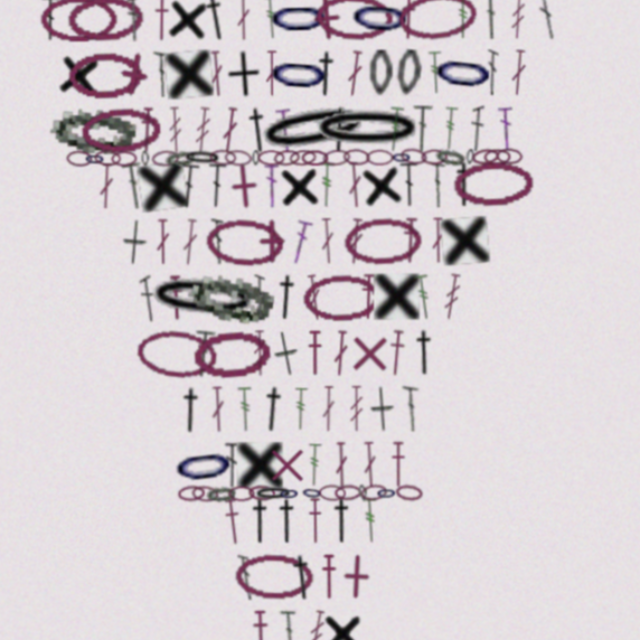chain: (278, 131, 386, 188), (180, 285, 286, 335), (329, 139, 432, 180), (217, 284, 298, 336), (171, 335, 246, 384), (406, 35, 480, 84), (96, 137, 174, 182), (222, 337, 293, 383), (234, 237, 305, 283), (123, 138, 196, 182), (333, 38, 404, 82), (259, 538, 331, 581), (456, 188, 528, 231), (112, 38, 182, 82), (358, 238, 428, 281), (321, 289, 391, 331), (112, 89, 181, 131), (88, 39, 158, 80), (202, 436, 263, 483), (436, 86, 497, 133), (363, 37, 422, 82), (290, 88, 349, 132), (291, 39, 348, 80), (405, 88, 430, 131), (382, 89, 403, 130), (215, 177, 250, 192), (440, 176, 468, 194), (277, 478, 312, 492), (199, 176, 226, 194), (287, 627, 323, 640), (234, 477, 261, 493), (372, 476, 397, 493), (409, 176, 434, 193), (300, 628, 335, 640), (221, 477, 246, 493), (403, 477, 428, 493), (187, 177, 212, 193), (252, 177, 277, 193), (310, 177, 335, 193), (340, 177, 365, 193), (473, 177, 498, 193), (296, 177, 320, 193), (358, 177, 383, 192), (340, 626, 366, 640), (209, 477, 233, 492), (272, 477, 296, 492), (335, 477, 359, 492), (349, 477, 373, 492), (136, 177, 160, 192), (239, 177, 263, 192), (495, 177, 519, 192), (270, 626, 295, 640), (320, 626, 345, 640), (111, 177, 134, 192), (254, 478, 278, 492), (282, 178, 306, 192), (321, 178, 345, 192), (379, 178, 403, 192), (428, 178, 452, 192), (484, 178, 508, 192), (281, 627, 306, 640), (151, 178, 174, 192), (331, 627, 355, 640), (319, 477, 339, 492), (299, 478, 318, 492), (386, 478, 405, 492), (127, 178, 146, 192), (401, 178, 420, 192), (260, 628, 279, 640), (370, 477, 379, 492), (468, 178, 476, 192), (178, 178, 185, 192), (277, 178, 284, 192)
double: (160, 188, 183, 231), (222, 339, 244, 381), (309, 239, 331, 281), (210, 189, 231, 231), (248, 139, 267, 181), (236, 189, 255, 230), (420, 139, 439, 180), (482, 39, 501, 80), (323, 289, 341, 331), (212, 239, 230, 281), (360, 239, 378, 281), (360, 89, 378, 131), (347, 339, 364, 381), (175, 289, 192, 331), (298, 139, 315, 181), (507, 89, 524, 131), (409, 189, 426, 230), (89, 39, 106, 80), (533, 39, 549, 81), (299, 589, 315, 630), (373, 439, 389, 480), (410, 389, 426, 430), (336, 239, 352, 280), (361, 189, 377, 230), (238, 89, 254, 130), (262, 539, 277, 580), (238, 389, 253, 430), (139, 189, 154, 230), (435, 189, 450, 230), (189, 89, 204, 130), (251, 439, 265, 480), (337, 389, 351, 430), (190, 239, 204, 280), (436, 239, 450, 280), (497, 139, 511, 180), (288, 89, 302, 130), (263, 39, 277, 80), (349, 439, 362, 480), (288, 189, 301, 230), (472, 139, 485, 180), (486, 89, 498, 130), (166, 39, 178, 80), (240, 239, 251, 280), (278, 289, 288, 330)
half_double: (280, 388, 309, 431), (231, 38, 260, 81), (293, 288, 321, 331), (269, 139, 296, 181), (342, 139, 369, 181), (330, 89, 357, 131), (307, 539, 333, 581), (208, 389, 234, 431), (270, 489, 295, 530), (294, 489, 319, 530), (343, 489, 368, 530), (454, 189, 479, 230), (418, 339, 442, 380), (248, 489, 268, 531), (396, 339, 415, 381), (409, 239, 427, 280), (274, 589, 291, 630), (200, 289, 217, 330), (372, 289, 389, 330), (175, 139, 192, 180), (409, 39, 426, 80), (398, 439, 414, 480), (324, 339, 340, 380), (189, 39, 205, 80), (336, 539, 351, 580), (324, 489, 339, 530)
noise: (12, 555, 32, 575)
single: (148, 86, 195, 133), (174, 187, 220, 233), (445, 238, 489, 282), (248, 188, 292, 232), (199, 88, 243, 132), (322, 38, 366, 82), (372, 187, 414, 232), (102, 87, 144, 132), (347, 538, 390, 581), (200, 38, 241, 82), (360, 339, 402, 381), (262, 439, 303, 480), (286, 439, 327, 480), (385, 289, 426, 330), (274, 239, 315, 280), (300, 189, 339, 231), (337, 589, 375, 630), (253, 89, 286, 131), (293, 338, 321, 382), (160, 239, 184, 281), (381, 389, 404, 431)
treble: (322, 589, 342, 631), (420, 289, 440, 331), (445, 289, 465, 331), (396, 139, 415, 181), (224, 139, 242, 181), (446, 139, 463, 180), (373, 489, 389, 530), (262, 389, 278, 430), (287, 39, 303, 80), (324, 439, 339, 480), (312, 389, 327, 430), (336, 189, 351, 230), (201, 139, 216, 180), (434, 89, 449, 130), (459, 39, 474, 80), (508, 39, 523, 80), (362, 389, 376, 430), (276, 339, 290, 380)
